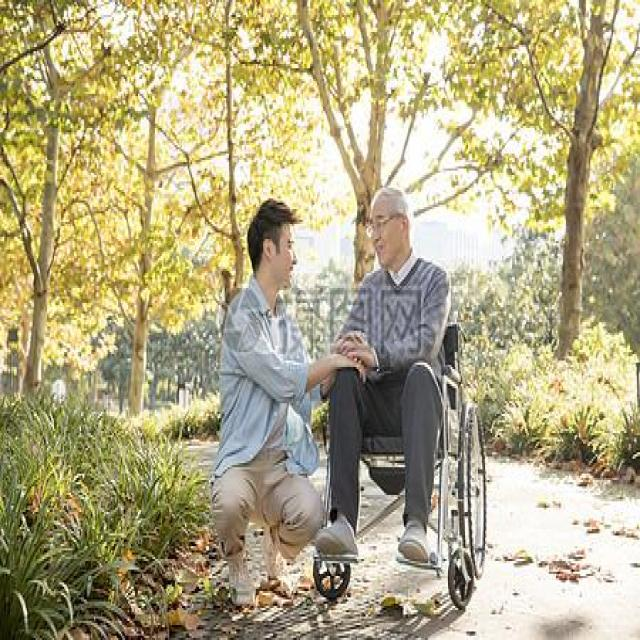wheelchairs: (311, 325, 494, 615)
